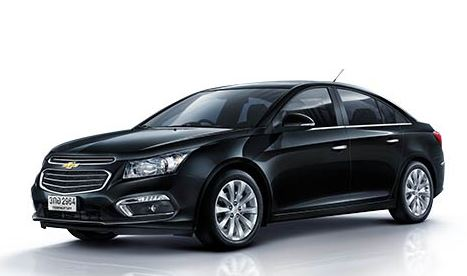sedan: (27, 79, 447, 251)
